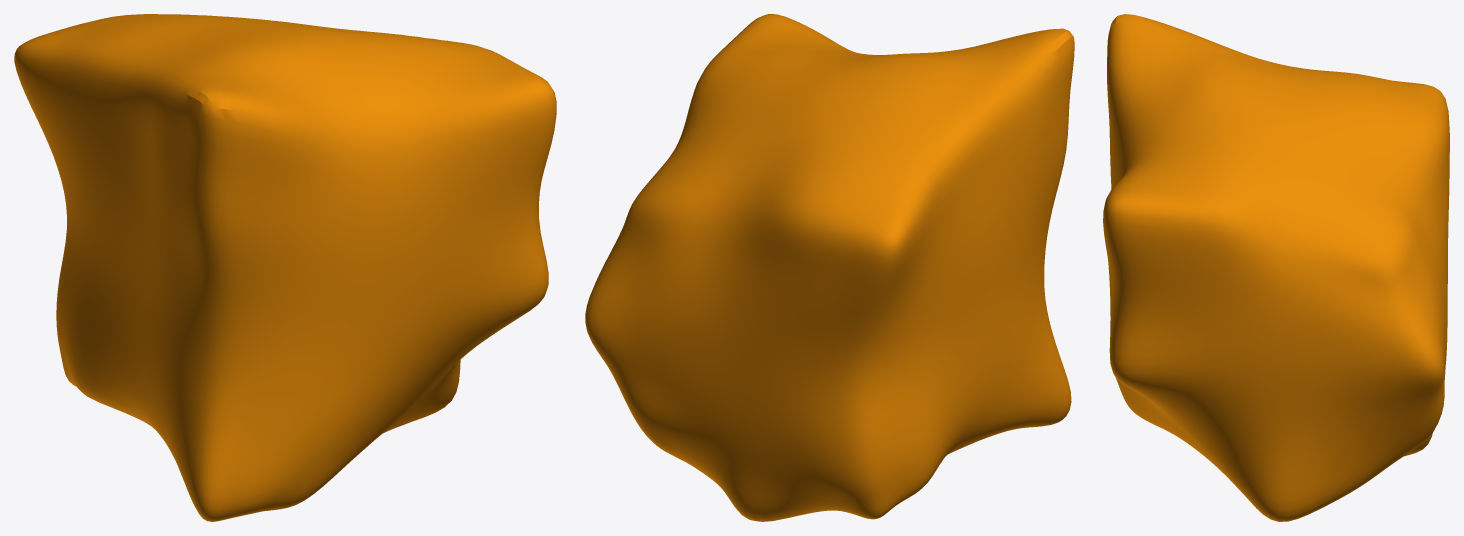
The picture shows the model from 3 angles, left to right: view 1: azimuth 30°, elevation 25°; view 2: azimuth 150°, elevation 25°; view 3: azimuth 270°, elevation 25°; orthographic projection. The views are drawn at different scales.
Parts seen in each view (by area): view 1: Cube; view 2: Cube; view 3: Cube.
Part boxes in pixels (x1,y1,x2,y2): Cube: (14,14,556,521); Cube: (585,14,1074,521); Cube: (1103,14,1449,521).
Size of the model in its own units: 194 by 241 by 198.
